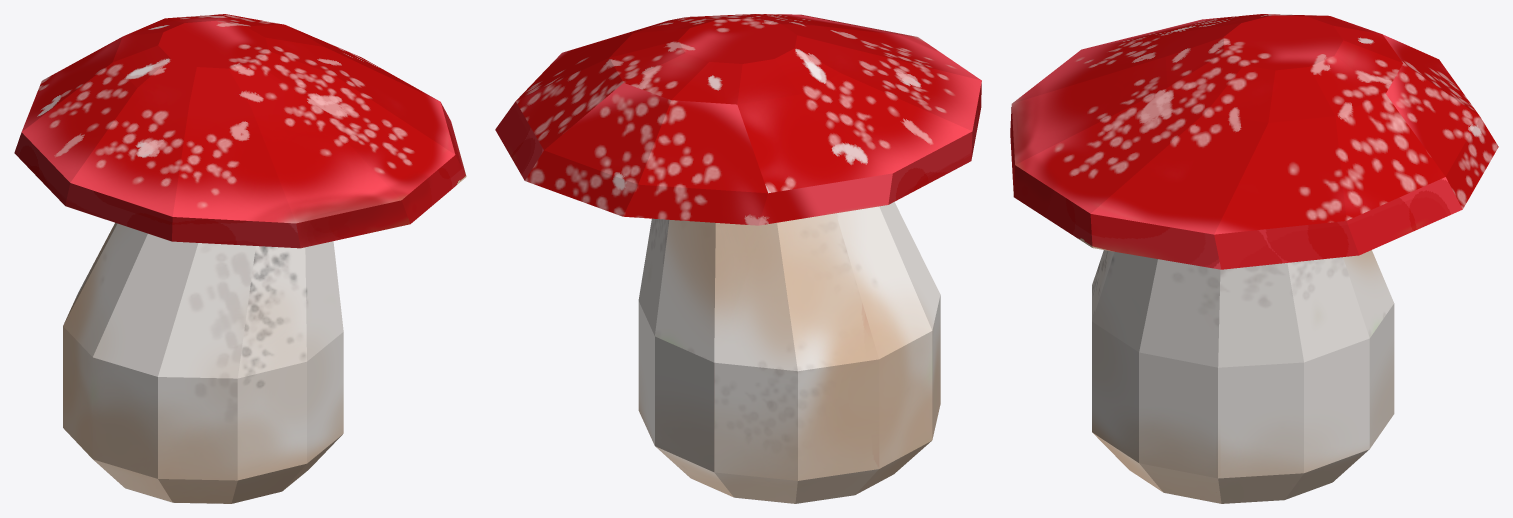
Rendered from mushroomred.glb.
3 views of the same model, side by side, from view 1: azimuth 30°, elevation 25°; view 2: azimuth 150°, elevation 25°; view 3: azimuth 270°, elevation 25° (orthographic). The views are drawn at different scales.
Visible parts, largest first — view 1: Cylinder; view 2: Cylinder; view 3: Cylinder.
Boxes of the visible parts, left/top/right/bottom form: Cylinder: left=14, top=14, right=466, bottom=503; Cylinder: left=495, top=14, right=981, bottom=503; Cylinder: left=1010, top=14, right=1498, bottom=503.
Bounding box in the file's own units: 5.23 × 5.06 × 5.2.
1 material, 1 textured.
